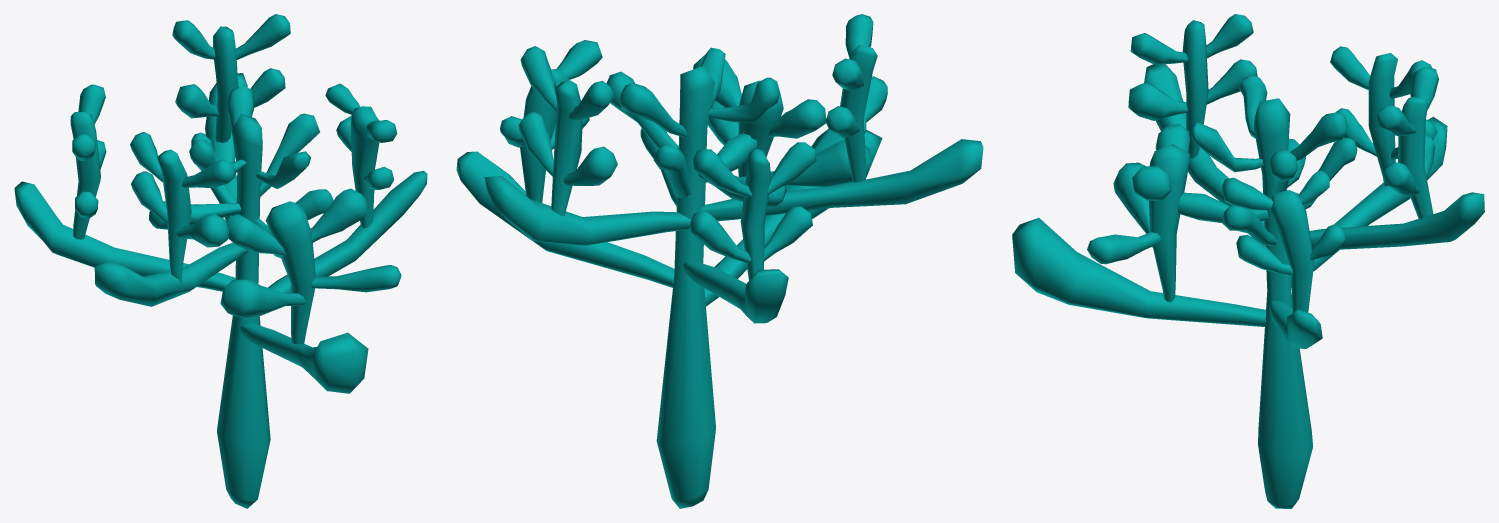
File: SM_PlantCorals_Tree_Placeholder.fbx
3 views of the same model, side by side, from view 1: azimuth 30°, elevation 25°; view 2: azimuth 150°, elevation 25°; view 3: azimuth 270°, elevation 25° (orthographic). The views are drawn at different scales.
Parts seen in each view (by area): view 1: SM_PlantCoral_Tree; view 2: SM_PlantCoral_Tree; view 3: SM_PlantCoral_Tree.
Boxes of the visible parts, left/top/right/bottom form: SM_PlantCoral_Tree: left=14, top=14, right=427, bottom=508; SM_PlantCoral_Tree: left=456, top=14, right=983, bottom=508; SM_PlantCoral_Tree: left=1012, top=14, right=1484, bottom=508.
Bounding box in the file's own units: 171 × 175 × 168.
